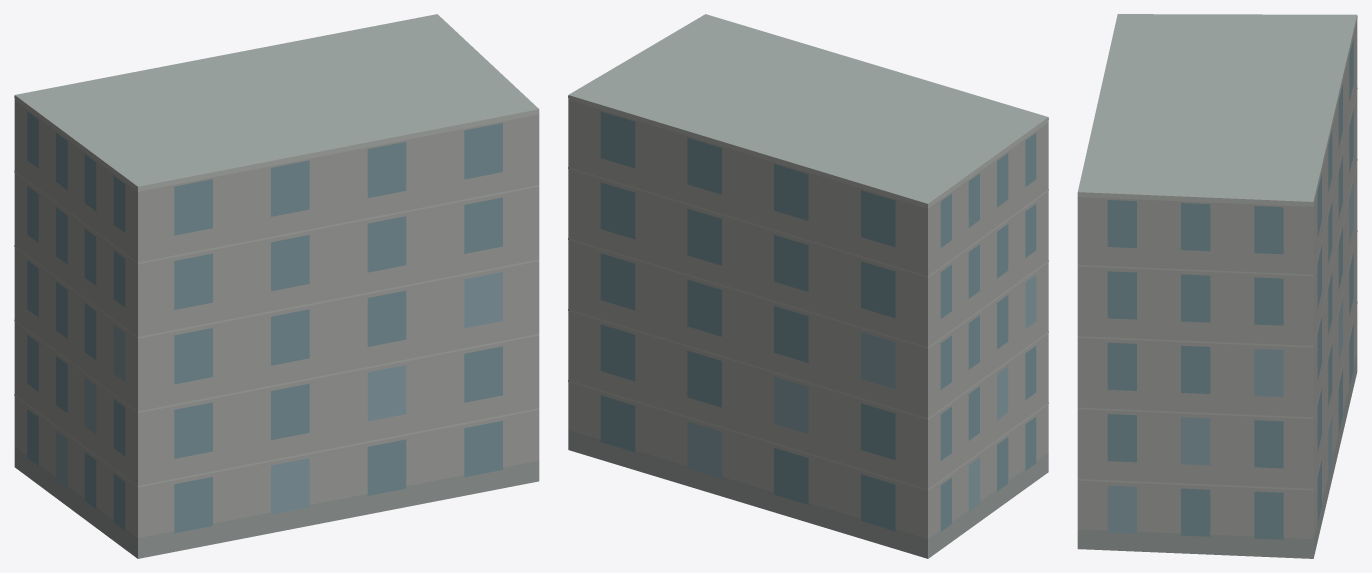
Rendered from survey-upis-33022910.glb.
3 renders of one model, left to right at view 1: azimuth 30°, elevation 25°; view 2: azimuth 150°, elevation 25°; view 3: azimuth 270°, elevation 25°, orthographic. The views are drawn at different scales.
Visible parts, largest first — view 1: survey-upis-33022910.tmp; view 2: survey-upis-33022910.tmp; view 3: survey-upis-33022910.tmp.
Part boxes in pixels (x1,y1,x2,y2): survey-upis-33022910.tmp: (14, 14, 539, 558); survey-upis-33022910.tmp: (568, 14, 1048, 558); survey-upis-33022910.tmp: (1077, 14, 1357, 558).
Bounding box in the file's own units: 19.94 × 17.63 × 12.54.
